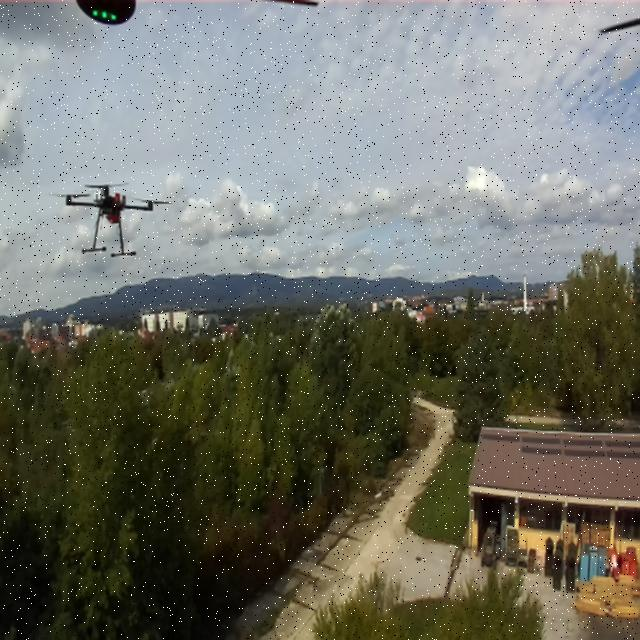UAV: (53, 178, 173, 253)
